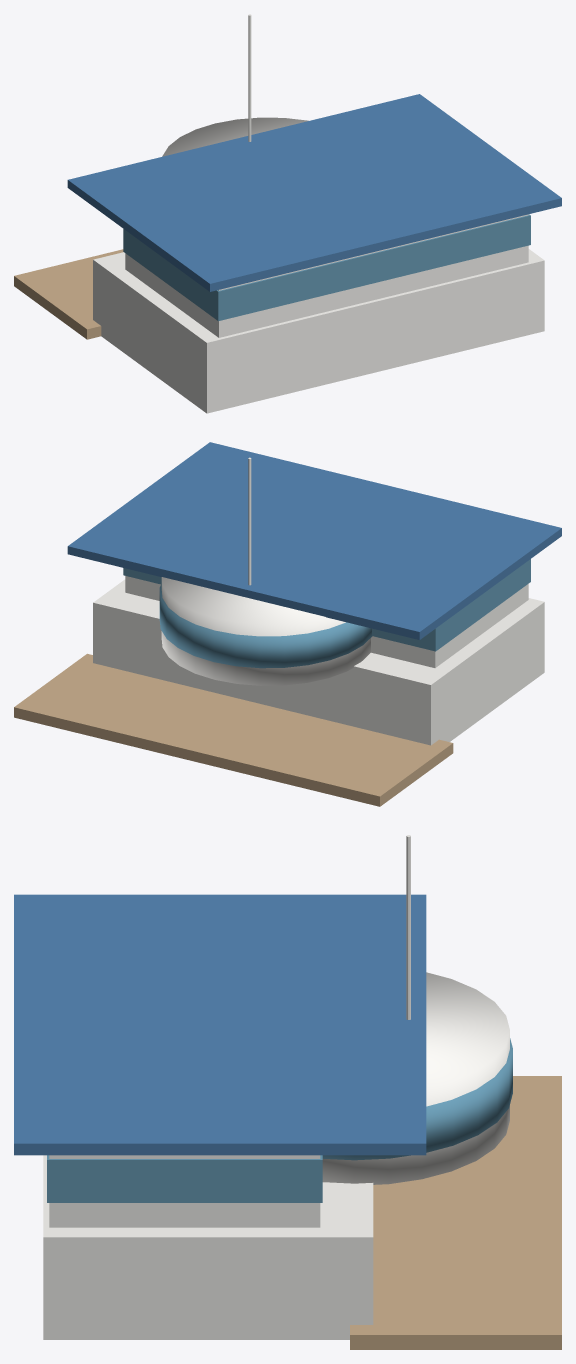
File: Puerto_YachtClub.fbx
3 views of the same model, one above another, from view 1: azimuth 30°, elevation 25°; view 2: azimuth 150°, elevation 25°; view 3: azimuth 270°, elevation 25° (orthographic). The views are drawn at different scales.
Parts seen in each view (by area): view 1: Cube.003, Cube, Cube.002, Cube.001, Cube.004, Cylinder, Cylinder.002; view 2: Cube.003, Cube.004, Cube, Cylinder, Cylinder.001, Cube.001, Cube.002, Cylinder.002; view 3: Cube.003, Cube, Cube.004, Cylinder, Cube.002, Cube.001, Cylinder.001, Cylinder.002.
Part boxes in pixels (x1,y1,x2,y2): Cube.003: [67, 94, 561, 291]; Cube: [93, 249, 544, 413]; Cube.002: [123, 214, 530, 321]; Cube.001: [125, 214, 528, 337]; Cube.004: [14, 249, 123, 339]; Cylinder: [162, 117, 308, 156]; Cylinder.002: [248, 14, 251, 141]; Cube.003: [67, 442, 561, 639]; Cube.004: [14, 653, 453, 806]; Cube: [93, 579, 544, 745]; Cylinder: [161, 577, 370, 685]; Cylinder.001: [159, 584, 372, 668]; Cube.001: [125, 576, 528, 667]; Cube.002: [123, 559, 530, 651]; Cylinder.002: [248, 457, 251, 585]; Cube.003: [14, 894, 426, 1155]; Cube: [43, 1155, 373, 1339]; Cube.004: [350, 1076, 561, 1349]; Cylinder: [322, 972, 509, 1184]; Cube.002: [47, 1155, 322, 1202]; Cube.001: [49, 1155, 320, 1227]; Cylinder.001: [322, 1038, 512, 1160]; Cylinder.002: [406, 835, 410, 1019].
Size of the model in its own units: 26 by 18 by 23.25.
